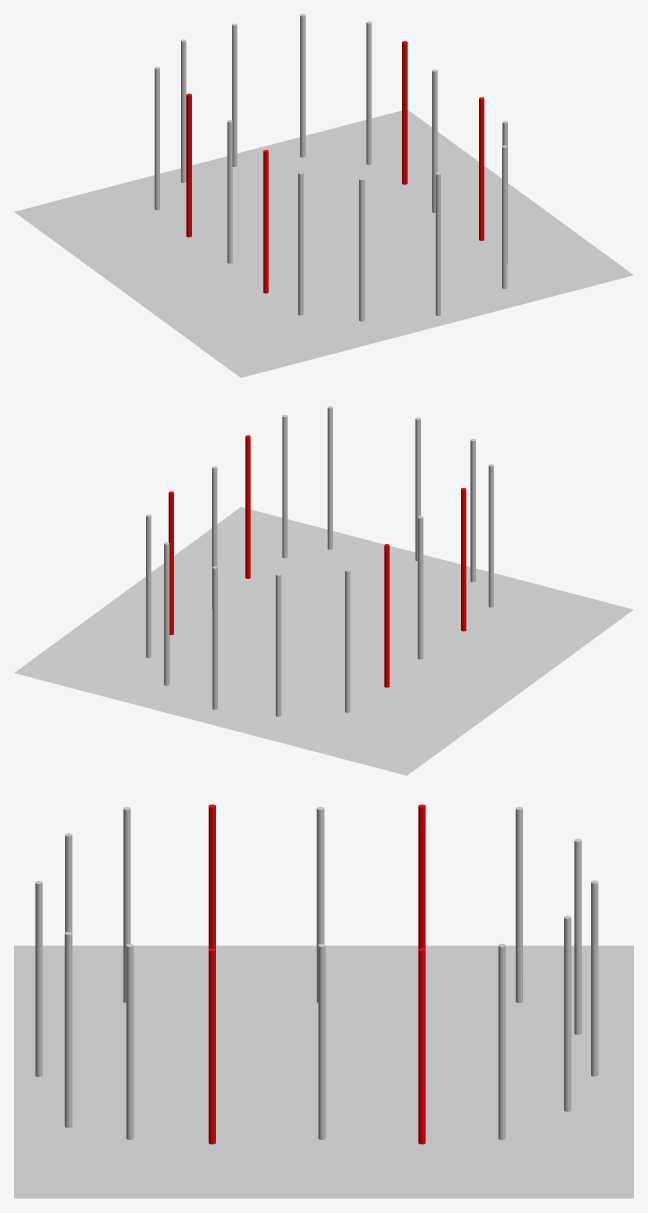
Rendered from 18Cameras_ViconStyle.fbx.
3 renders of one model, top to bottom at view 1: azimuth 30°, elevation 25°; view 2: azimuth 150°, elevation 25°; view 3: azimuth 270°, elevation 25°, orthographic. The views are drawn at different scales.
Visible parts, largest first — view 1: Plane, Cylinder 9, Cylinder 12, Cylinder, Cylinder 6, Cylinder 10, Cylinder 13, Cylinder 15, Cylinder 1, Cylinder 3, Cylinder 4, Cylinder 11 (+4 smaller); view 2: Plane, Cylinder 3, Cylinder 11, Cylinder 7, Cylinder, Cylinder 1, Cylinder 9, Cylinder 10, Cylinder 4, Cylinder 5, Cylinder 6, Cylinder 12 (+5 smaller); view 3: Plane, Cylinder 1, Cylinder 14, Cylinder 15, Cylinder 4, Cylinder 5, Cylinder 3, Cylinder 9, Cylinder 2, Cylinder 6, Cylinder 7, Cylinder 8 (+5 smaller).
Boxes of the visible parts, x1,y1,x2,y2 form: Plane: (14, 110, 633, 377); Cylinder 9: (154, 66, 159, 210); Cylinder 12: (186, 93, 191, 237); Cylinder: (359, 178, 364, 321); Cylinder 6: (366, 21, 371, 164); Cylinder 10: (298, 172, 303, 315); Cylinder 13: (263, 150, 268, 293); Cylinder 15: (479, 97, 484, 240); Cylinder 1: (502, 145, 507, 288); Cylinder 3: (181, 39, 186, 182); Cylinder 4: (300, 14, 305, 157); Cylinder 11: (227, 120, 232, 263); Plane: (14, 507, 633, 775); Cylinder 3: (275, 573, 281, 716); Cylinder 11: (417, 516, 423, 659); Cylinder 7: (282, 414, 287, 558); Cylinder: (470, 439, 475, 582); Cylinder 1: (327, 406, 332, 549); Cylinder 9: (345, 569, 350, 712); Cylinder 10: (488, 464, 493, 607); Cylinder 4: (164, 542, 169, 685); Cylinder 5: (212, 566, 217, 709); Cylinder 6: (146, 514, 151, 657); Cylinder 12: (384, 544, 389, 687); Plane: (14, 945, 633, 1198); Cylinder 1: (64, 931, 72, 1127); Cylinder 14: (418, 948, 425, 1144); Cylinder 15: (208, 948, 215, 1144); Cylinder 4: (564, 915, 571, 1111); Cylinder 5: (591, 880, 598, 1076); Cylinder 3: (574, 838, 581, 1034); Cylinder 9: (515, 807, 522, 1002); Cylinder 2: (35, 881, 42, 1076); Cylinder 6: (498, 944, 505, 1139); Cylinder 7: (126, 944, 133, 1139); Cylinder 8: (318, 944, 325, 1139).
Size of the model in its own units: 834 by 304 by 834.
